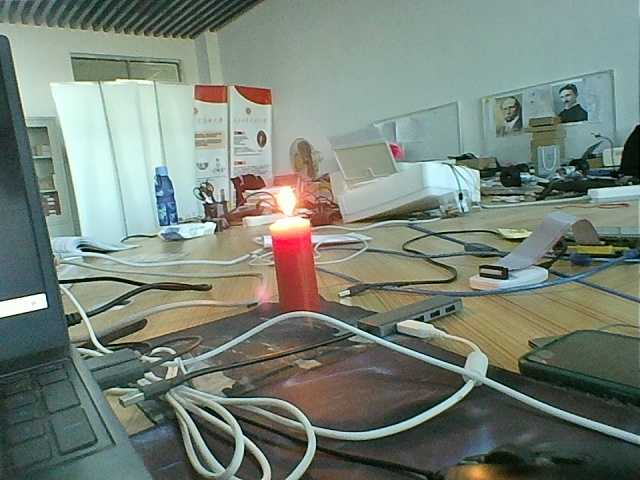candle: (262, 223, 326, 324)
fire: (267, 183, 307, 219)
